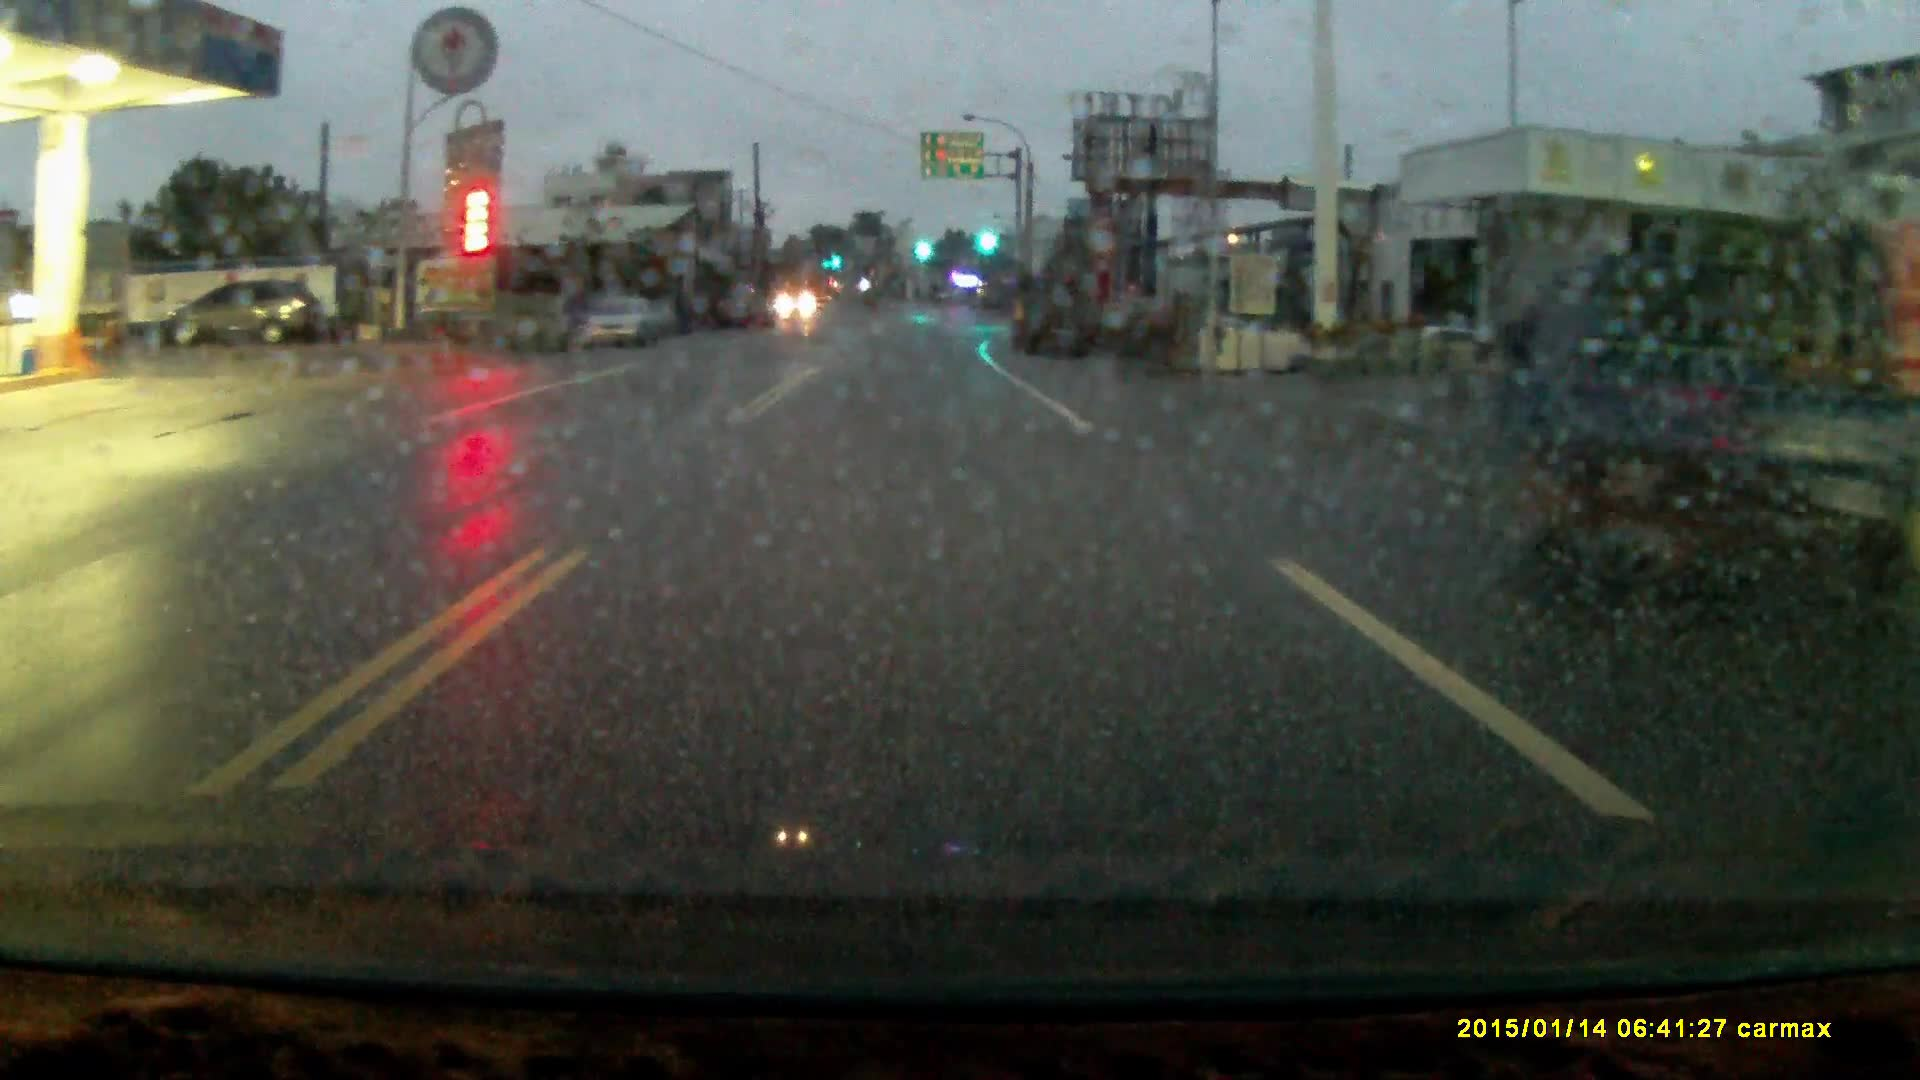rider: (552, 258, 601, 373)
vehicle: (1529, 263, 1863, 565), (158, 281, 326, 348), (1008, 268, 1103, 362), (582, 299, 683, 354)
